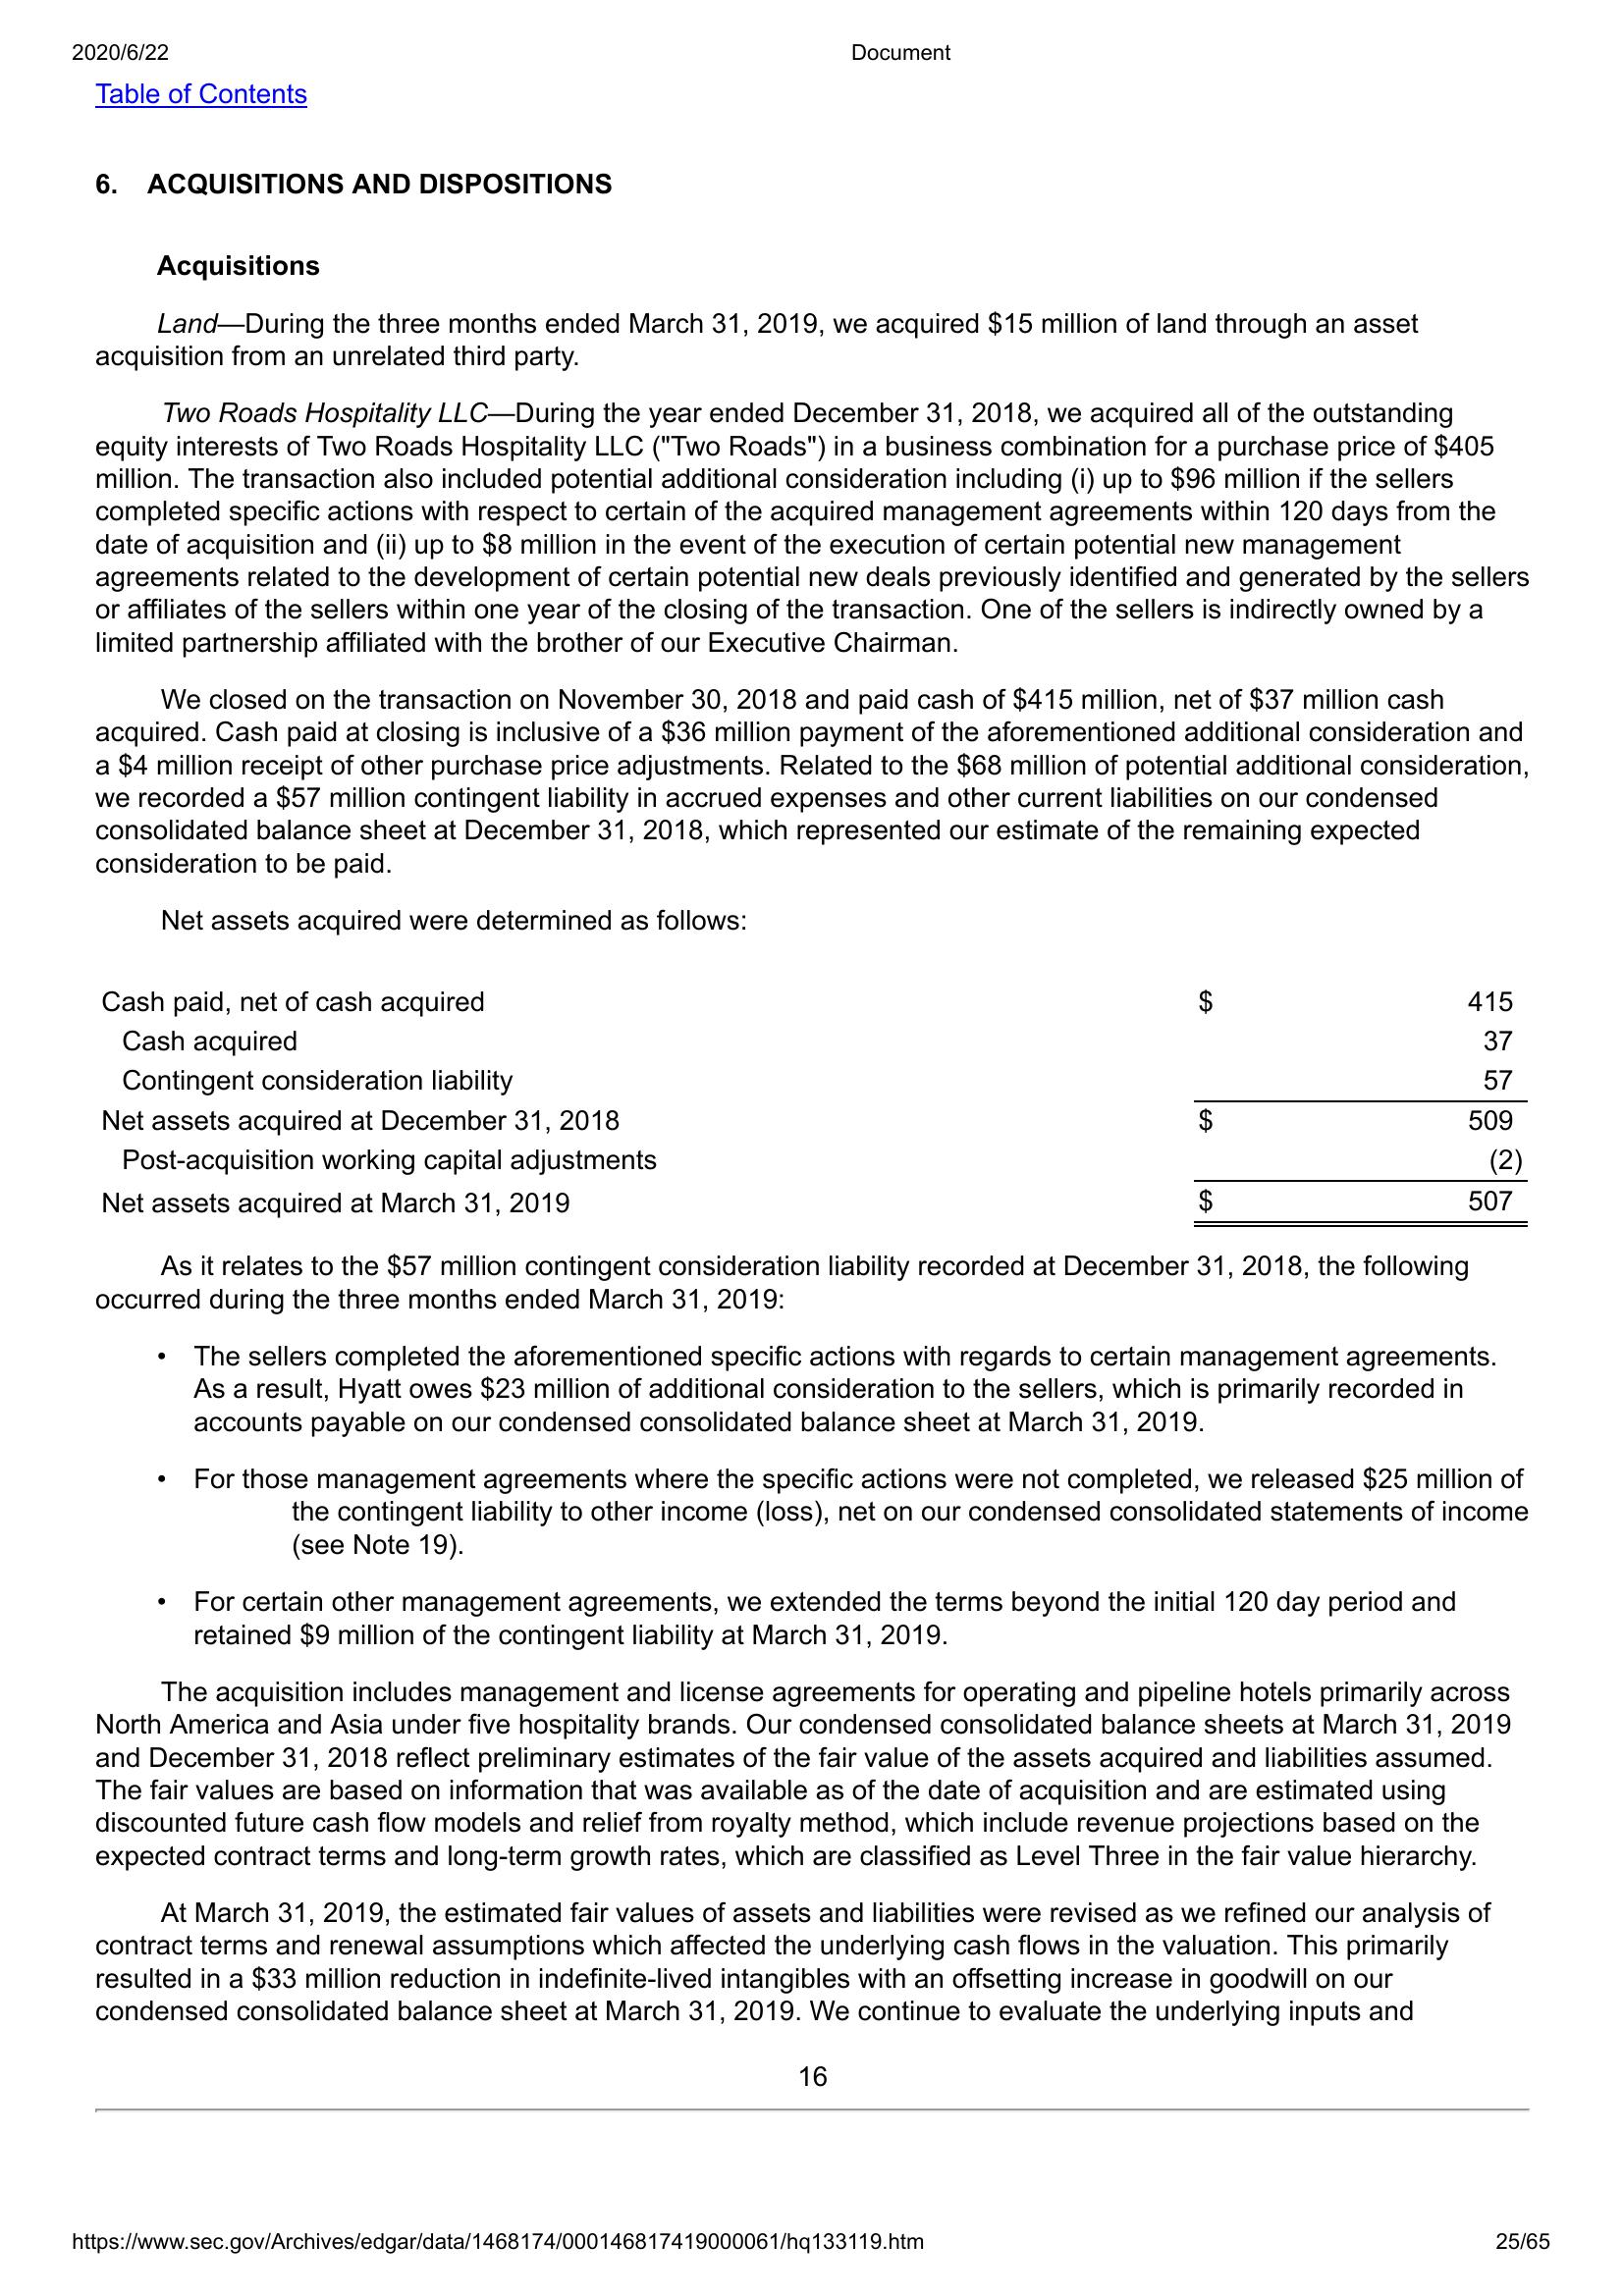table: (79, 965, 1533, 1234)
